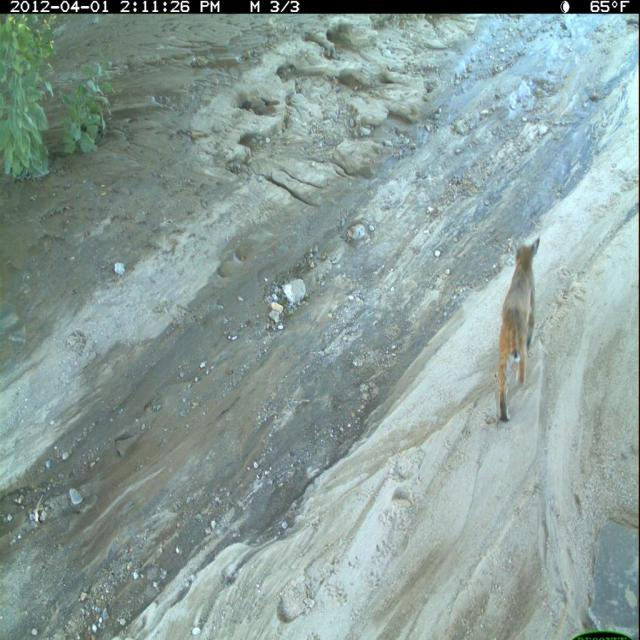bobcat: (495, 234, 544, 428)
